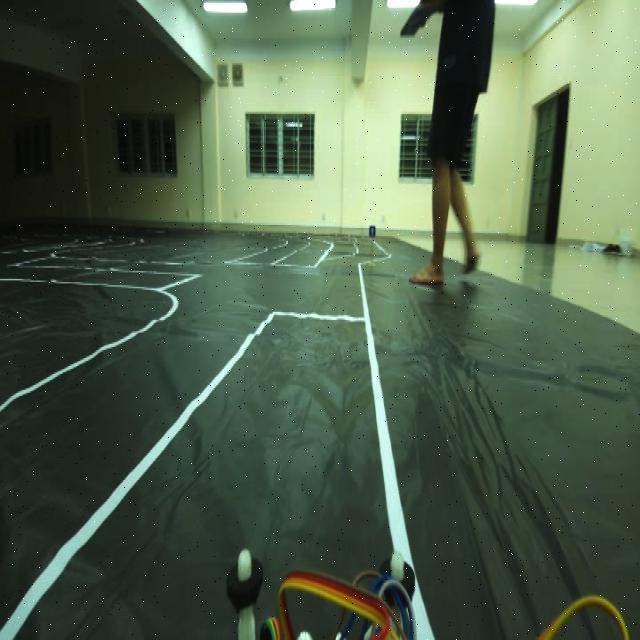onewayroad: (367, 222, 378, 242)
